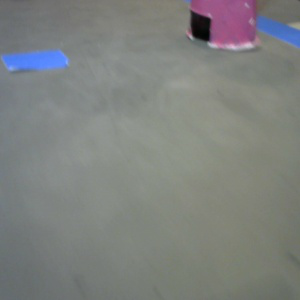right: (188, 1, 262, 53)
